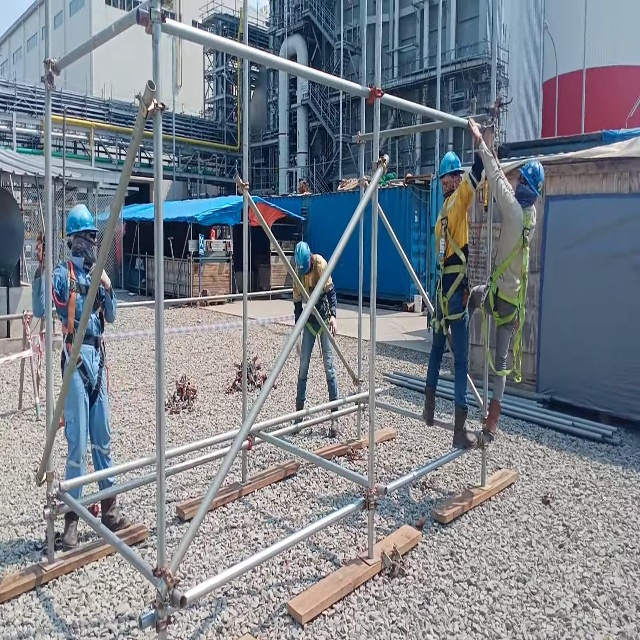Arnes_seguridad: (481, 206, 538, 390), (52, 255, 107, 403), (426, 187, 473, 339)
